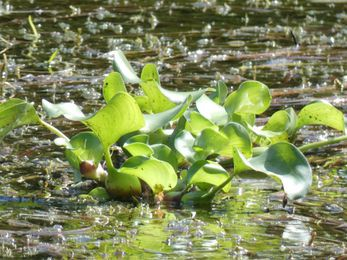water_hyacinth: (39, 42, 347, 208)
